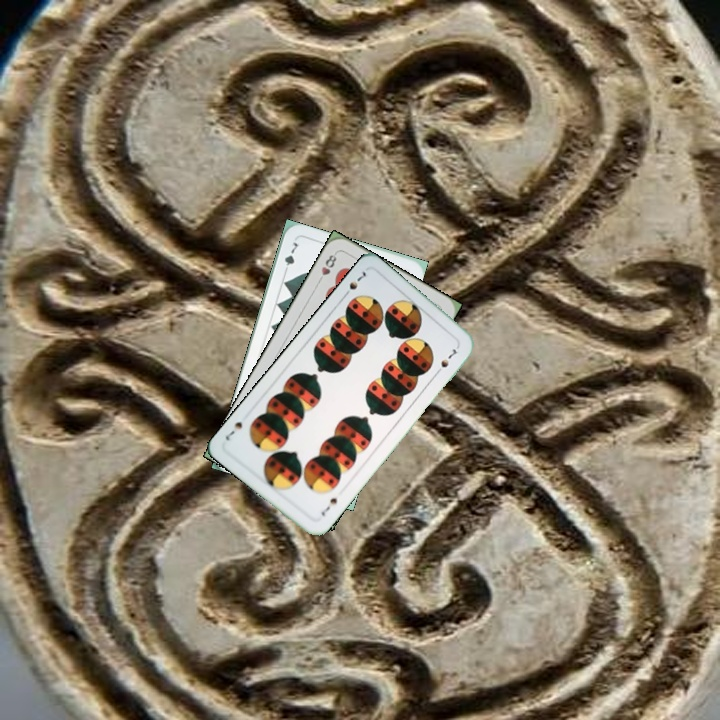G7: (280, 238, 301, 276)
H8: (314, 249, 339, 286)
S7: (339, 266, 369, 300), (317, 494, 340, 518)
